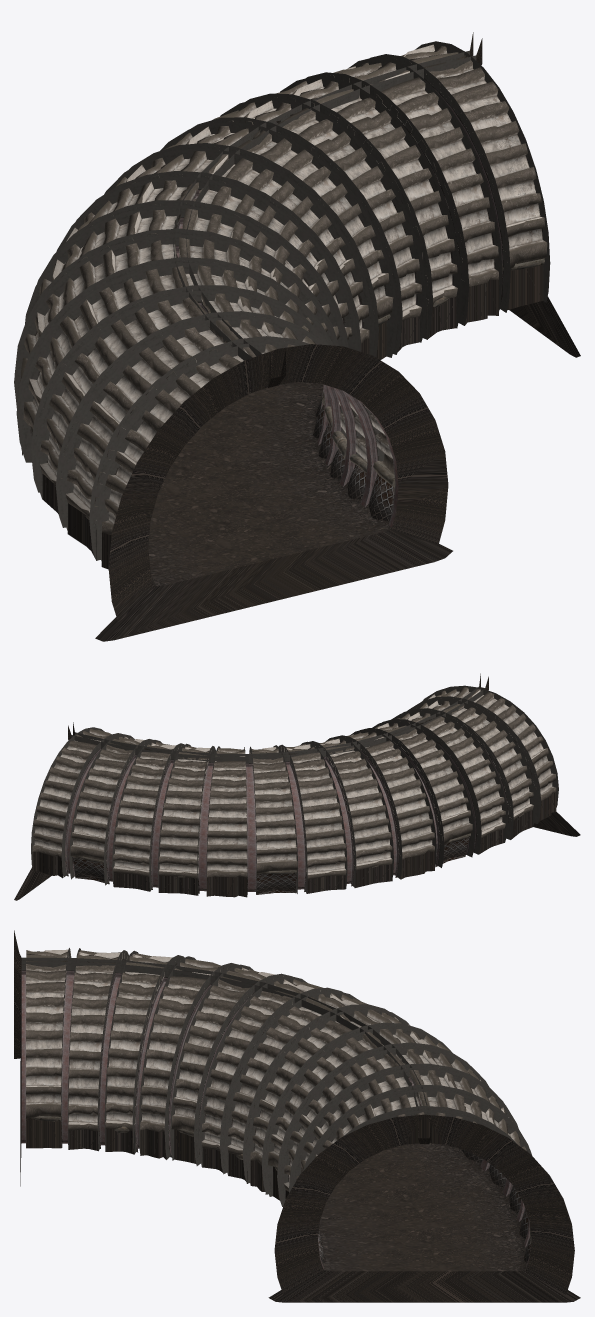
The model's file is tunnel_tile_2.dae.
The picture shows the model from 3 angles, top to bottom: view 1: azimuth 30°, elevation 25°; view 2: azimuth 150°, elevation 25°; view 3: azimuth 270°, elevation 25°; orthographic projection. The views are drawn at different scales.
Visible parts, largest first — view 1: Walls, Ground, Chainlink, Wood; view 2: Walls, Chainlink, Ground, Wood; view 3: Walls, Ground, Chainlink.
Boxes of the visible parts, box(x1,y1,x2,y2) form: Walls: box(14, 32, 550, 623); Ground: box(95, 296, 580, 641); Chainlink: box(32, 264, 542, 520); Wood: box(85, 258, 544, 519); Walls: box(31, 673, 558, 897); Chainlink: box(65, 837, 476, 894); Ground: box(14, 812, 580, 900); Wood: box(65, 813, 524, 877); Walls: box(14, 930, 574, 1294); Ground: box(20, 1058, 580, 1302); Chainlink: box(28, 1119, 530, 1263).
Size of the model in its own units: 1389 by 1406 by 518.
